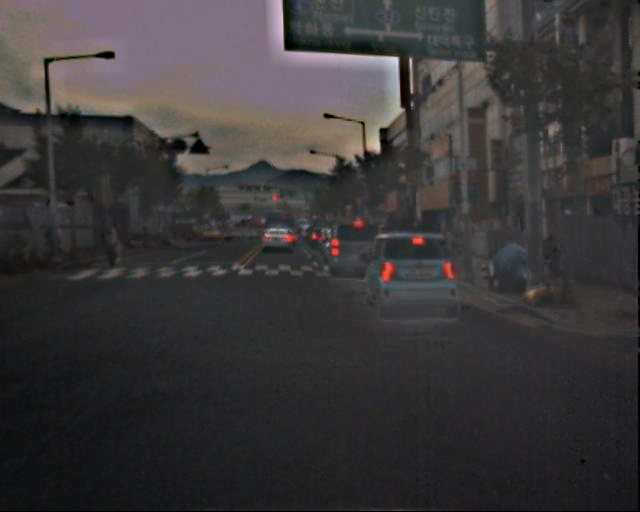person: (43, 223, 74, 260), (103, 231, 122, 270)
